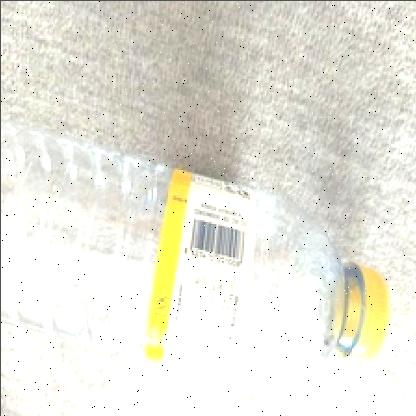Plastic Bottle: (2, 121, 390, 388)
